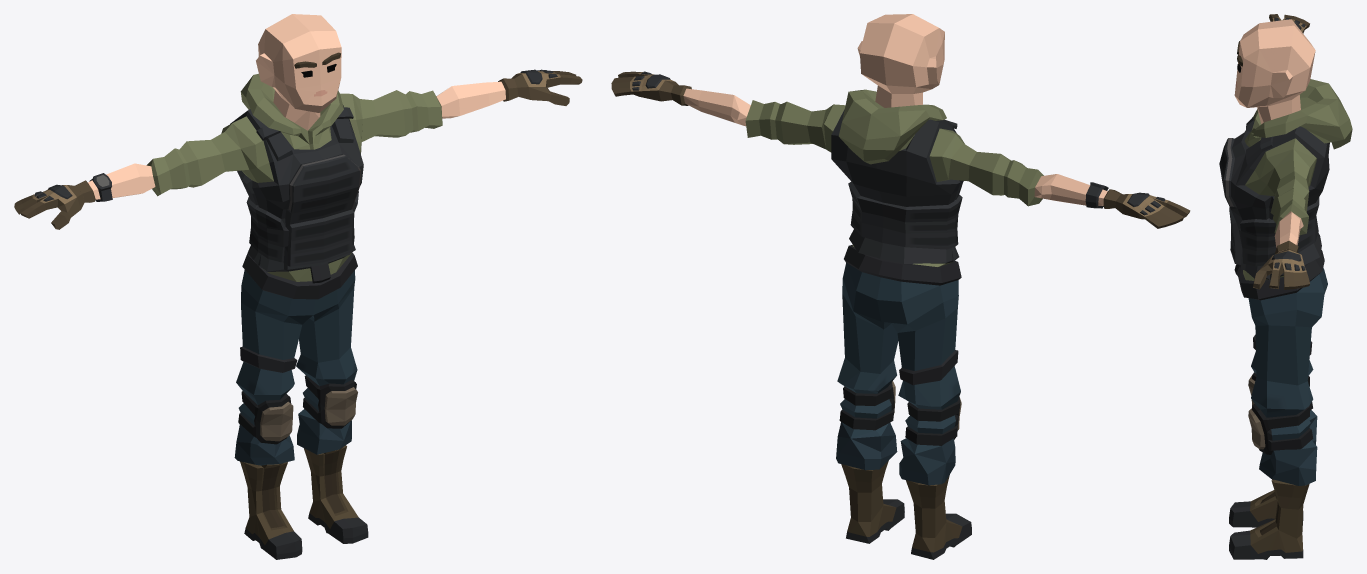
Rendered from SM_Chr_Contractor_Female_01.fbx.
3 views of the same model, side by side, from view 1: azimuth 30°, elevation 25°; view 2: azimuth 150°, elevation 25°; view 3: azimuth 270°, elevation 25° (orthographic). The views are drawn at different scales.
Parts seen in each view (by area): view 1: SM_Chr_Contractor_Female_01; view 2: SM_Chr_Contractor_Female_01; view 3: SM_Chr_Contractor_Female_01.
Boxes of the visible parts, box(x1,y1,x2,y2) form: SM_Chr_Contractor_Female_01: box(14, 14, 582, 559); SM_Chr_Contractor_Female_01: box(611, 14, 1190, 559); SM_Chr_Contractor_Female_01: box(1219, 14, 1352, 559).
Size of the model in its own units: 204 by 179 by 42.2.
